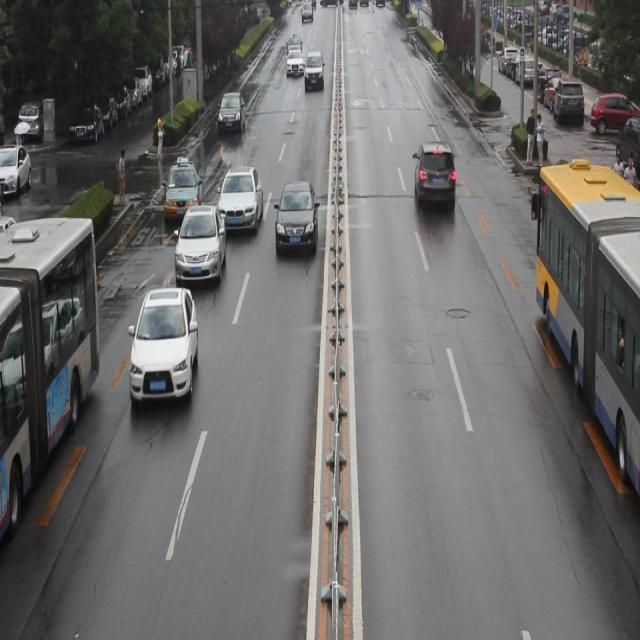car: (130, 288, 196, 412), (176, 206, 223, 289), (273, 181, 316, 258), (215, 167, 263, 234), (413, 142, 453, 212), (165, 156, 203, 224), (219, 90, 245, 139)
van: (529, 168, 640, 490), (1, 222, 100, 519)
